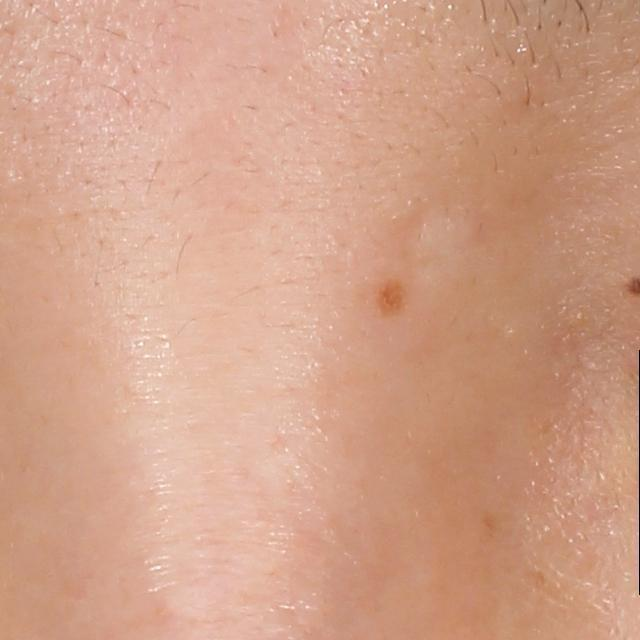nevus: (372, 272, 411, 323)
